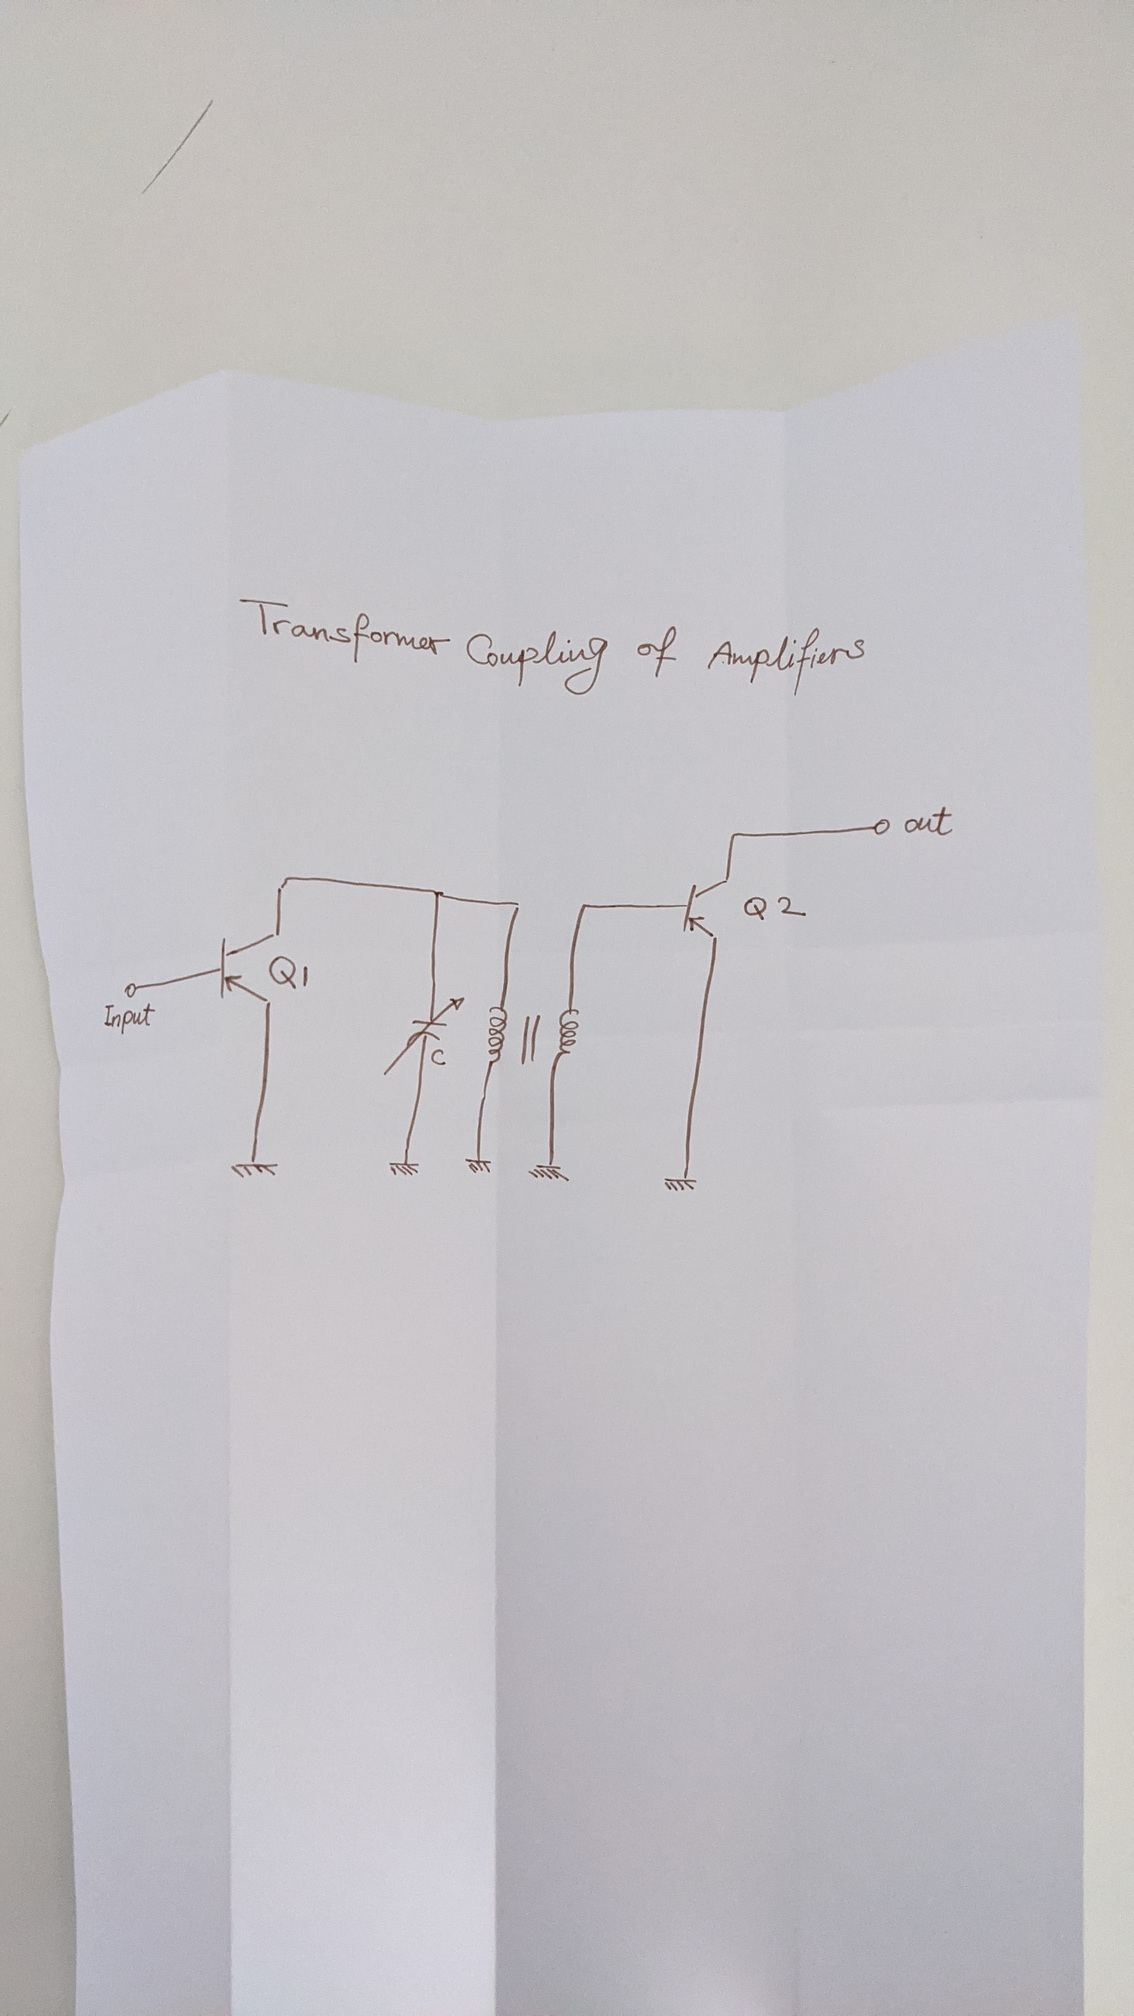capacitor.unpolarized: (381, 996, 467, 1076)
gnd: (228, 1158, 282, 1181), (526, 1160, 573, 1184), (662, 1174, 699, 1194), (388, 1159, 422, 1178), (462, 1155, 494, 1176)
junction: (276, 872, 292, 894), (429, 888, 446, 901), (510, 899, 523, 914), (577, 900, 593, 912), (728, 829, 739, 843)
terminal: (872, 817, 892, 836), (122, 980, 138, 1000)
text: (235, 595, 868, 698), (741, 893, 810, 924), (102, 1000, 156, 1036), (903, 804, 955, 838), (267, 954, 310, 991), (429, 1047, 449, 1068)
transformer: (486, 1004, 583, 1065)
transistor: (217, 928, 284, 1008), (681, 876, 732, 942)
